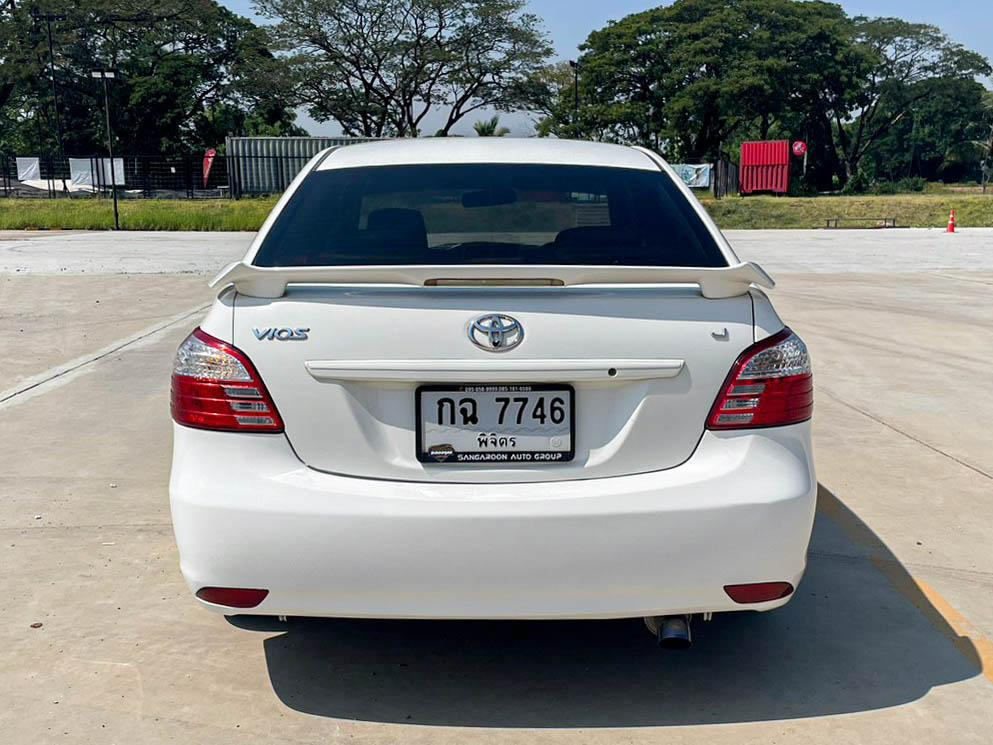license-plate: (403, 369, 587, 468)
